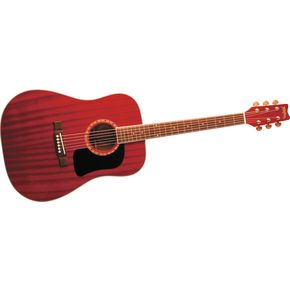guitar: (1, 89, 290, 202)
